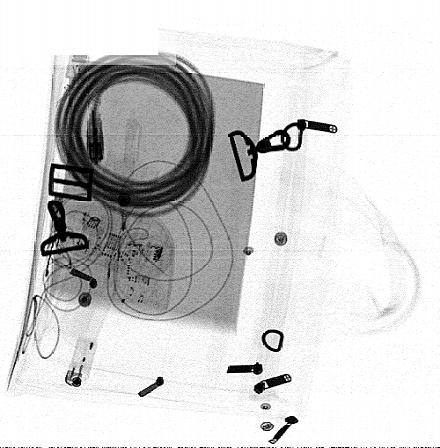Lighter: (65, 337, 98, 388)
